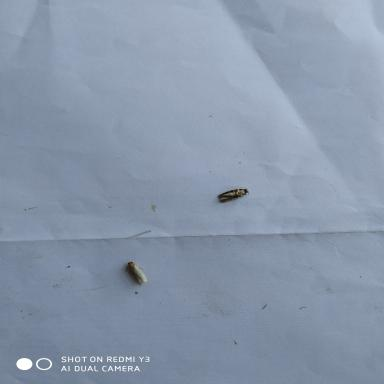pbw: (208, 182, 256, 211), (120, 256, 152, 294)
